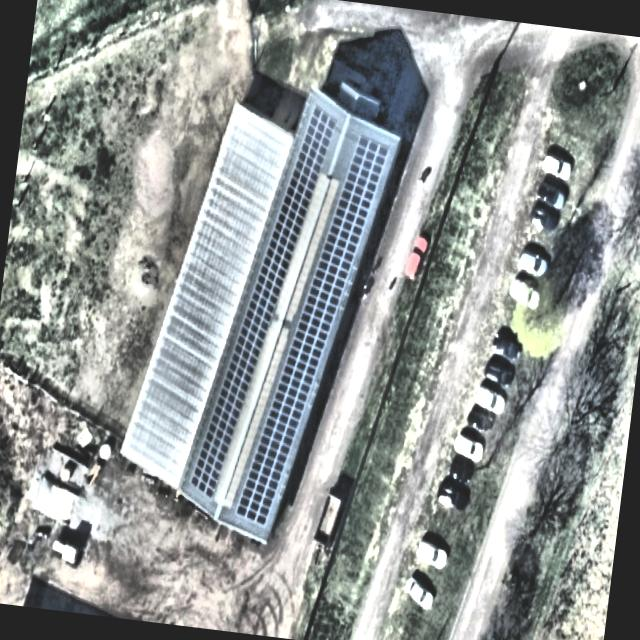roof_pv: (187, 414, 239, 502), (264, 366, 314, 444), (342, 132, 390, 212), (324, 197, 371, 270), (302, 260, 348, 331), (228, 304, 274, 372), (286, 316, 330, 385), (296, 102, 338, 174), (208, 368, 256, 431), (234, 464, 279, 528), (248, 426, 294, 487), (280, 161, 318, 225), (247, 258, 288, 314), (266, 218, 300, 268)
